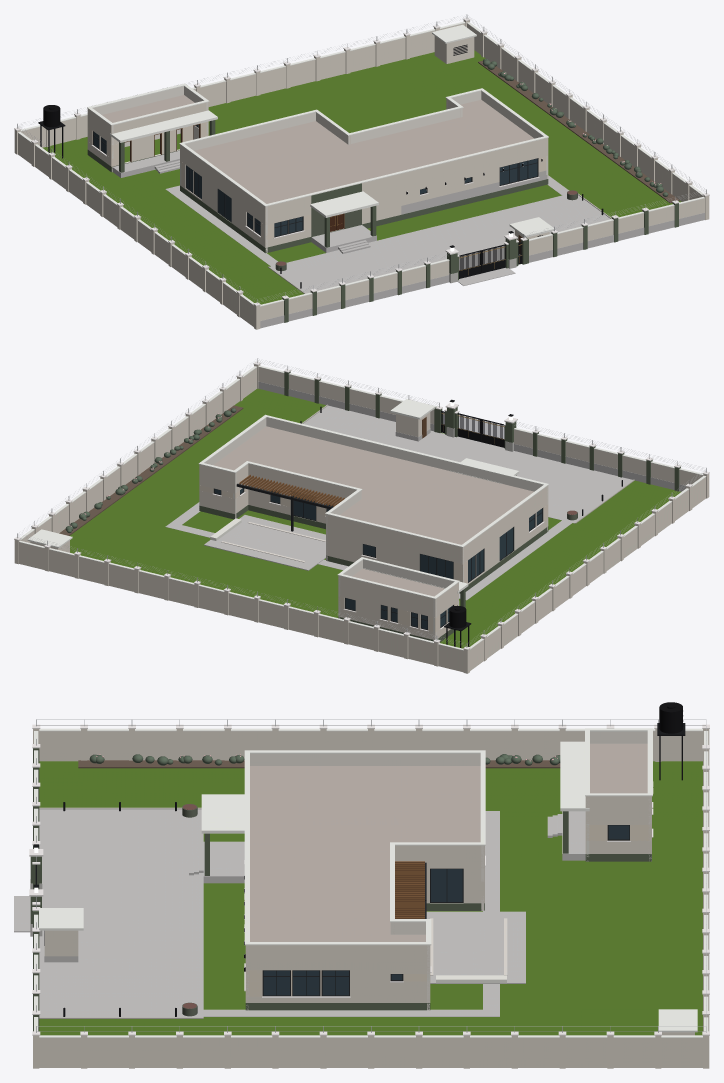
The model's file is est_S7.glb.
3 renders of one model, top to bottom at view 1: azimuth 30°, elevation 25°; view 2: azimuth 150°, elevation 25°; view 3: azimuth 270°, elevation 25°, orthographic. The views are drawn at different scales.
Parts seen in each view (by area): view 1: GR_est_S7, GD_est_S7, GT_est_S7; view 2: GR_est_S7, GD_est_S7, GT_est_S7; view 3: GR_est_S7, GD_est_S7.
Part boxes in pixels (x1,y1,x2,y2): GR_est_S7: (14, 20, 709, 329); GD_est_S7: (14, 14, 709, 305); GT_est_S7: (459, 242, 522, 278); GR_est_S7: (14, 364, 709, 673); GD_est_S7: (14, 358, 709, 649); GT_est_S7: (441, 411, 504, 447); GR_est_S7: (14, 728, 709, 1068); GD_est_S7: (29, 702, 709, 1035).
Bounding box in the file's own units: 52.55 × 6.95 × 49.87.
Materials: 8 (2 with a texture image).
